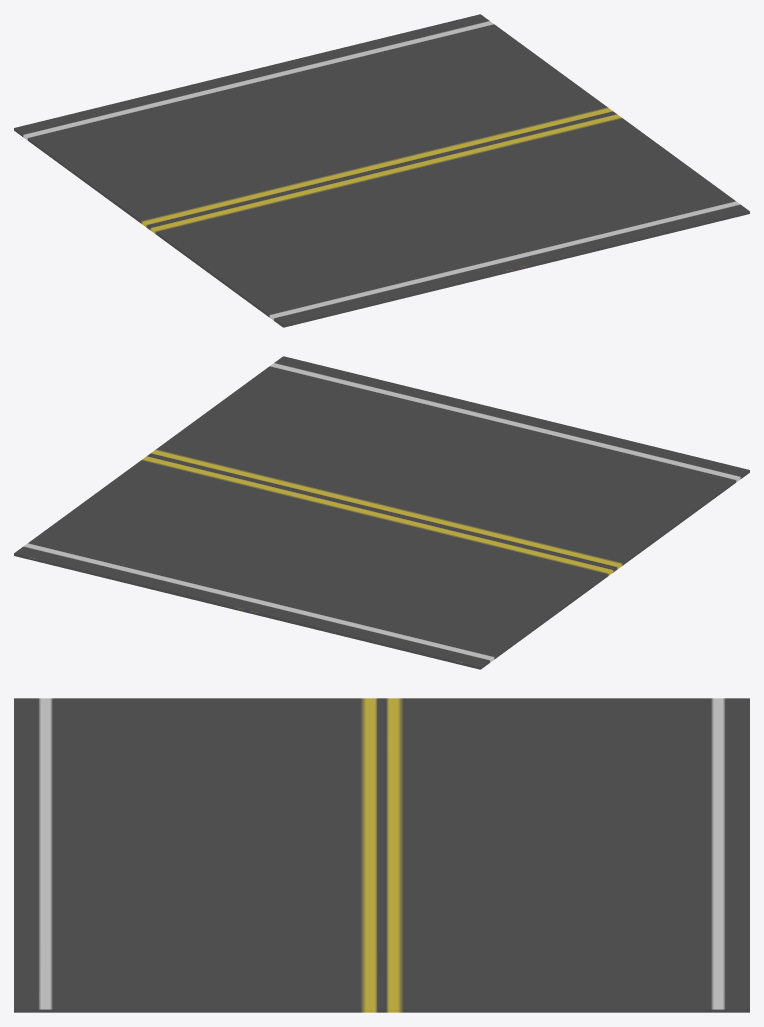
The model's file is sttraight.glb.
3 views of the same model, one above another, from view 1: azimuth 30°, elevation 25°; view 2: azimuth 150°, elevation 25°; view 3: azimuth 270°, elevation 25° (orthographic). The views are drawn at different scales.
Visible parts, largest first — view 1: Plane.024; view 2: Plane.024; view 3: Plane.024.
Part boxes in pixels (x1,y1,x2,y2): Plane.024: [14, 14, 749, 327]; Plane.024: [14, 356, 749, 669]; Plane.024: [14, 698, 749, 1012].
Size of the model in its own units: 15 by 0.0792 by 15.
